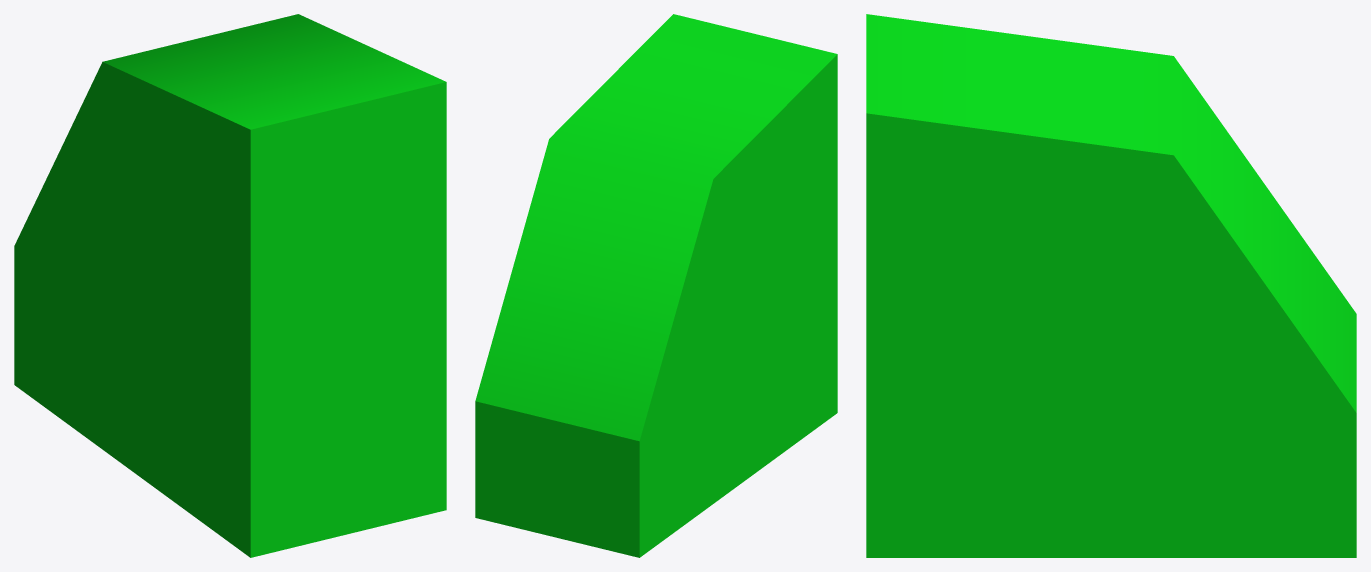
The model's file is Wall_Temple_Brick_01_Collider.fbx.
3 views of the same model, side by side, from view 1: azimuth 30°, elevation 25°; view 2: azimuth 150°, elevation 25°; view 3: azimuth 270°, elevation 25° (orthographic). The views are drawn at different scales.
Visible parts, largest first — view 1: Wall_Temple_Brick_01_Collider; view 2: Wall_Temple_Brick_01_Collider; view 3: Wall_Temple_Brick_01_Collider.
Part boxes in pixels (x1,y1,x2,y2): Wall_Temple_Brick_01_Collider: [14, 14, 446, 557]; Wall_Temple_Brick_01_Collider: [475, 14, 837, 557]; Wall_Temple_Brick_01_Collider: [866, 14, 1356, 557].
Bounding box in the file's own units: 417 × 871 × 871.
